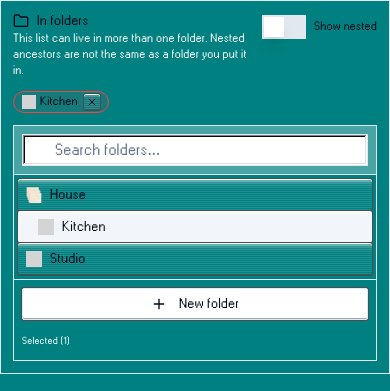
Test: InFoldersEditor › Show nested reveals inherited ancestors as non-removable chips
The width and height of the screenshot is (390, 391).
Click the switch named "Show nested folders" at {"x": 284, "y": 27}, box [262,15,306,39]
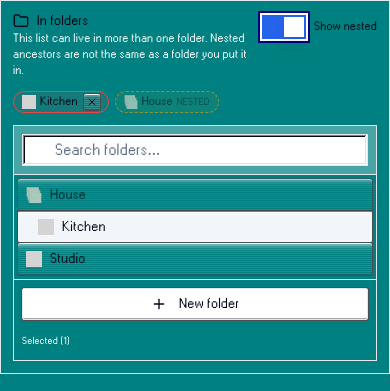
Expected: the button named "Remove from Kitchen" is shown, [84,94,100,110]
Expected: the text "nested" is shown, [177,94,210,110]
Expected: the element named "Folder membership" shows "House", [142,96,173,107]
